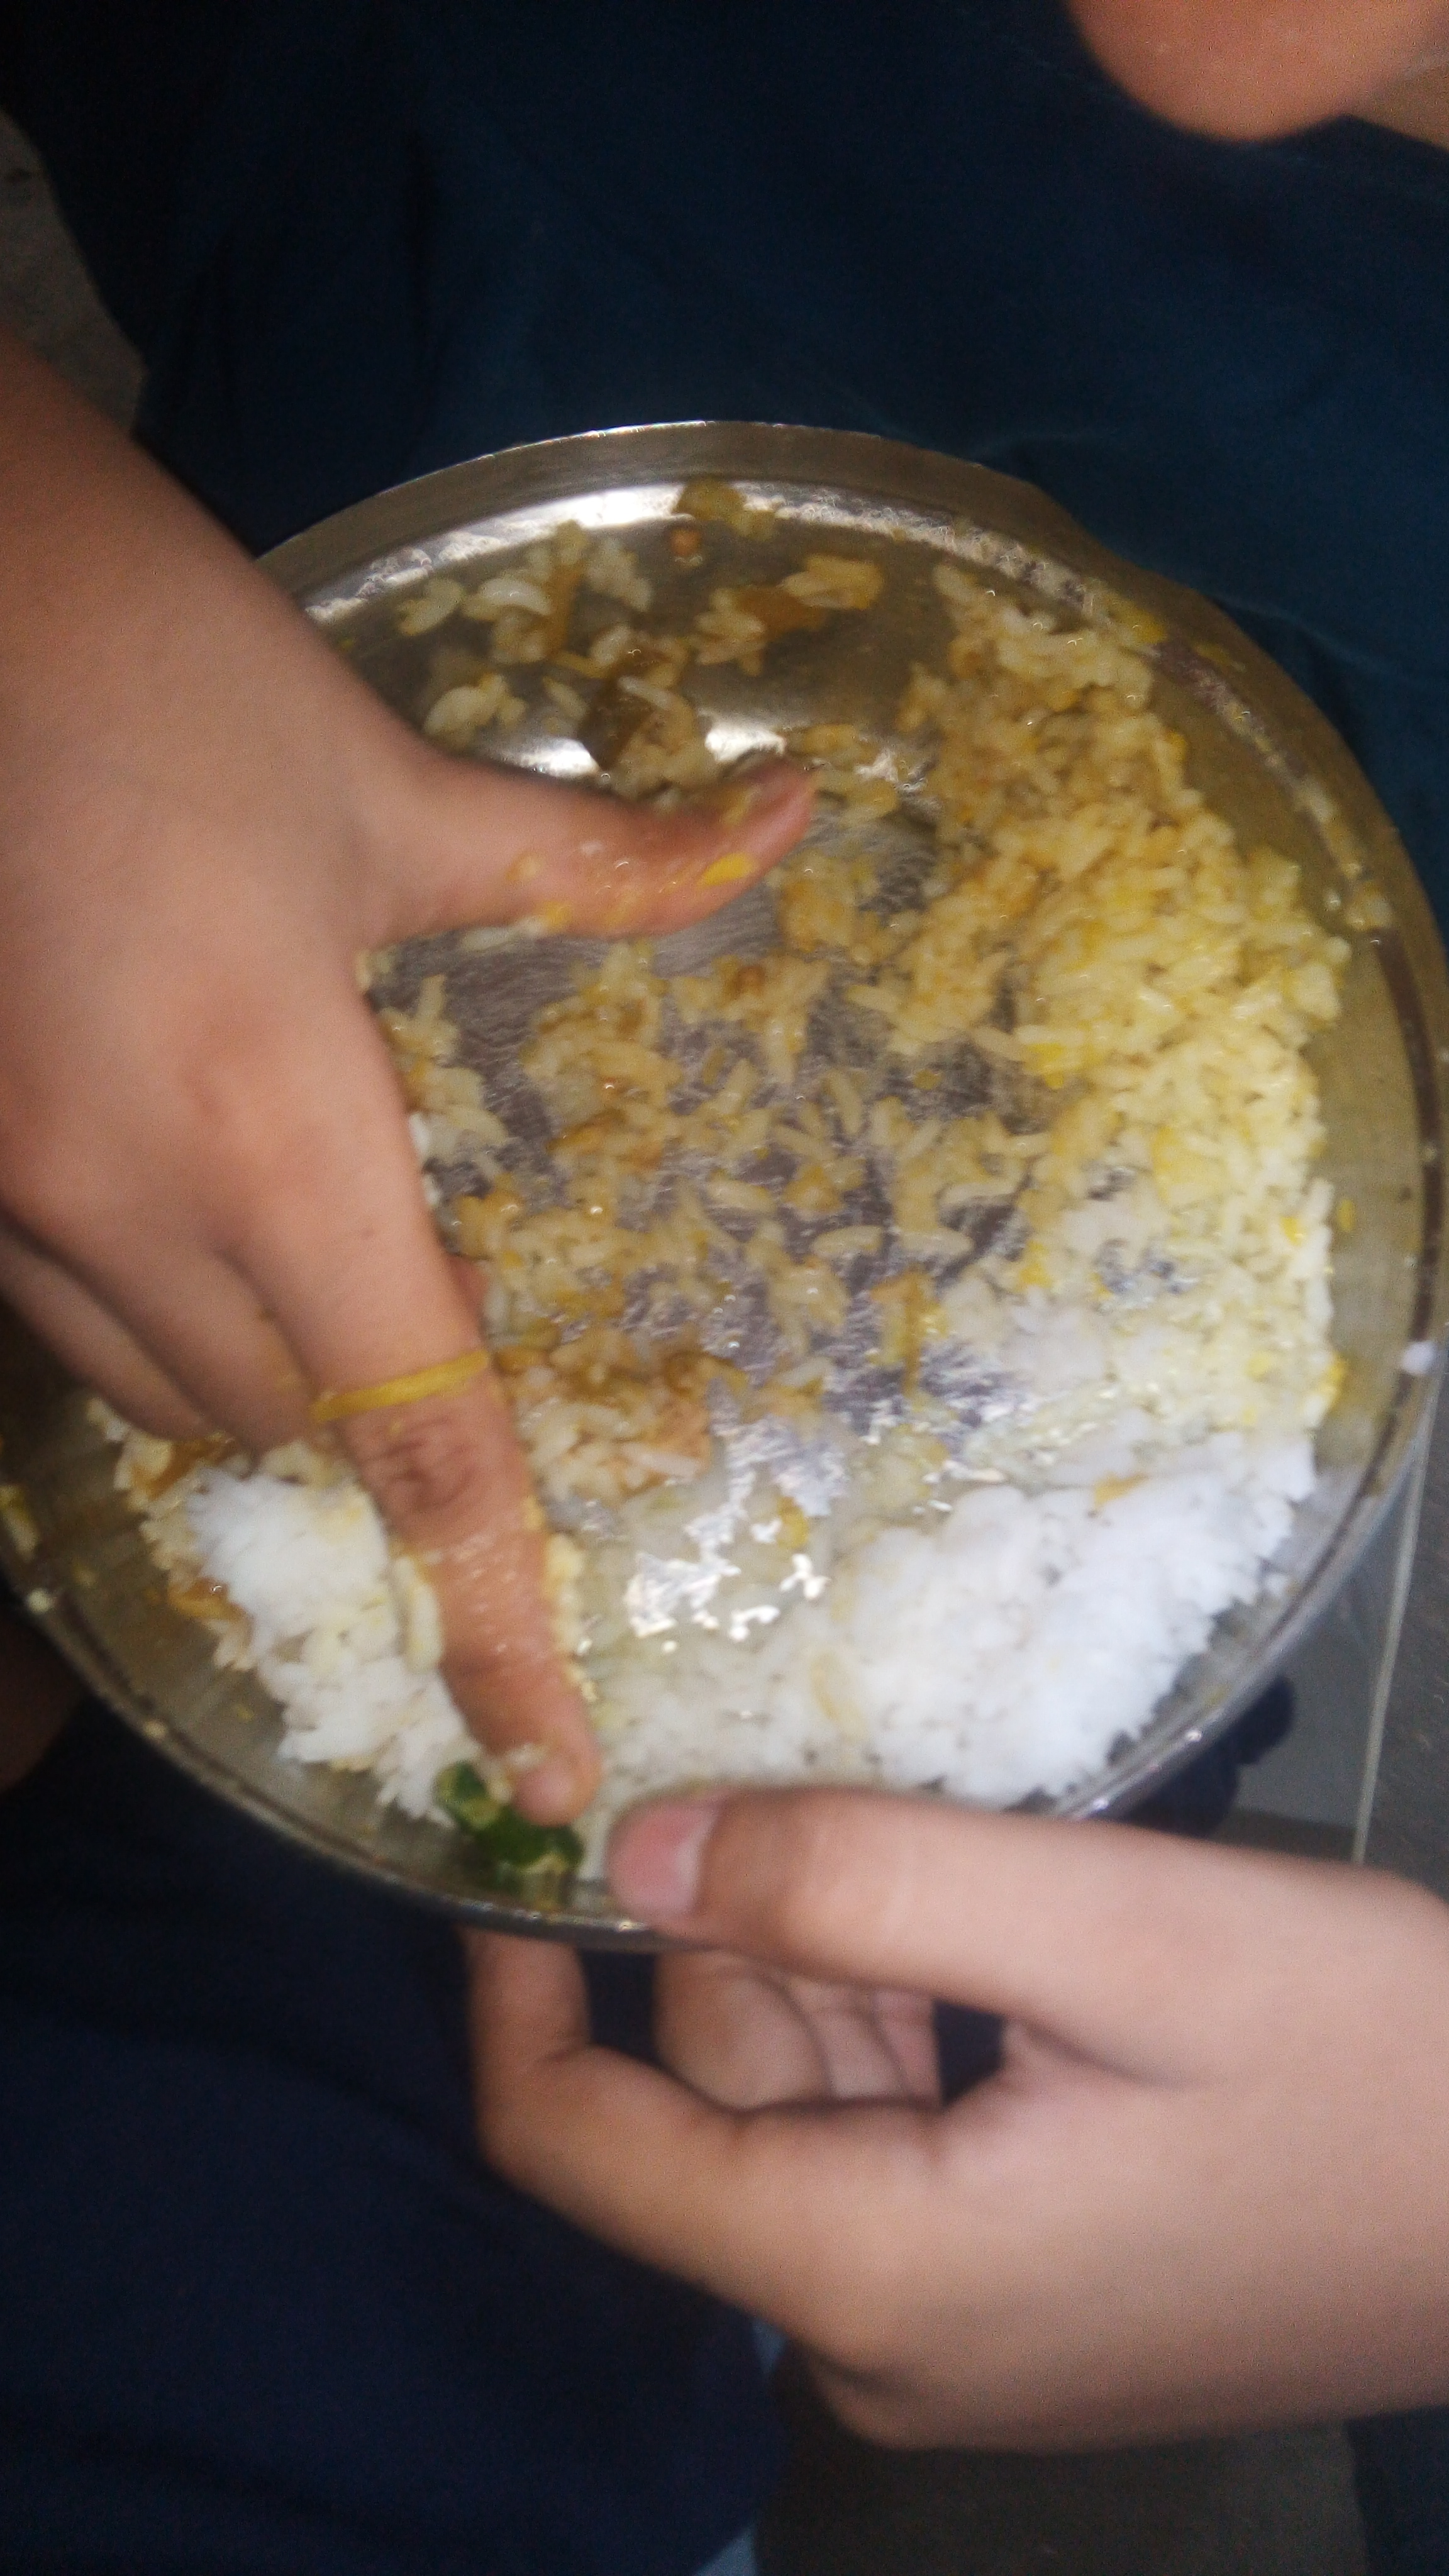food: (57, 444, 1407, 1893)
